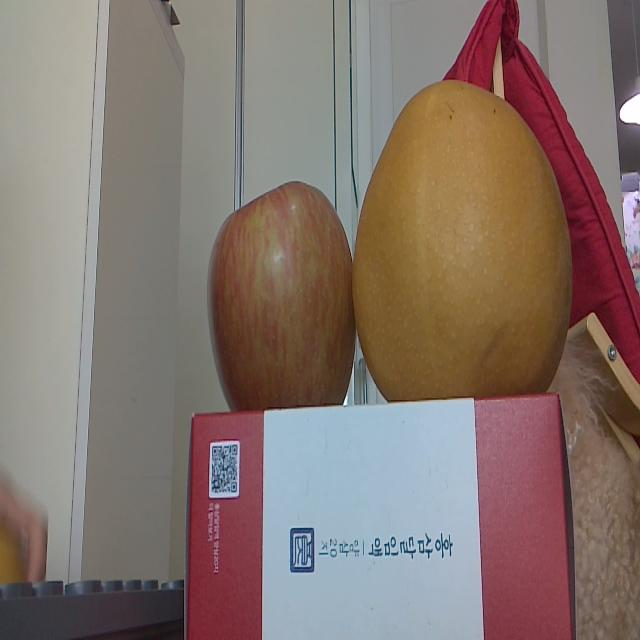apple: (204, 177, 357, 405)
pear: (358, 78, 576, 402)
